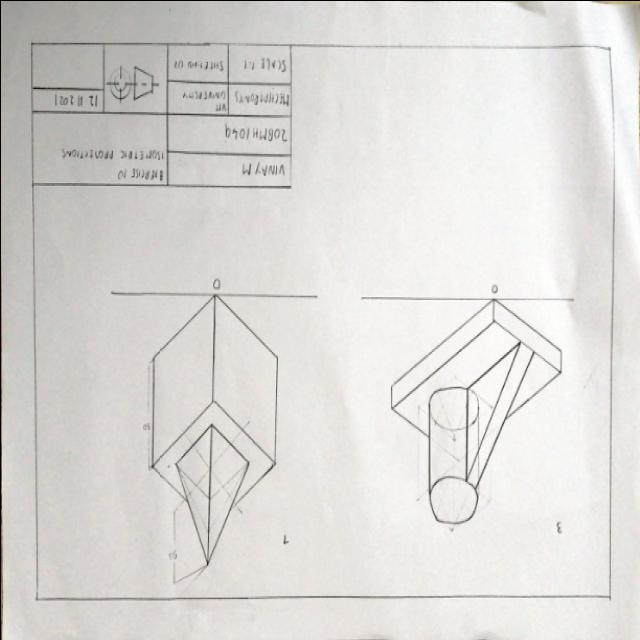Drawings: (382, 277, 580, 539), (136, 271, 290, 585)
